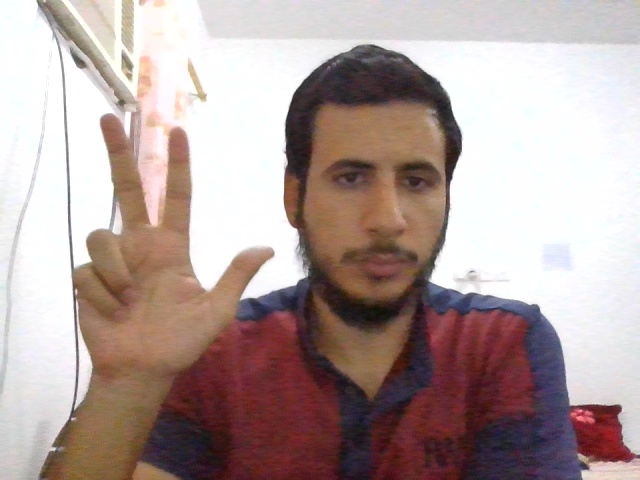Three: (71, 112, 276, 378)
